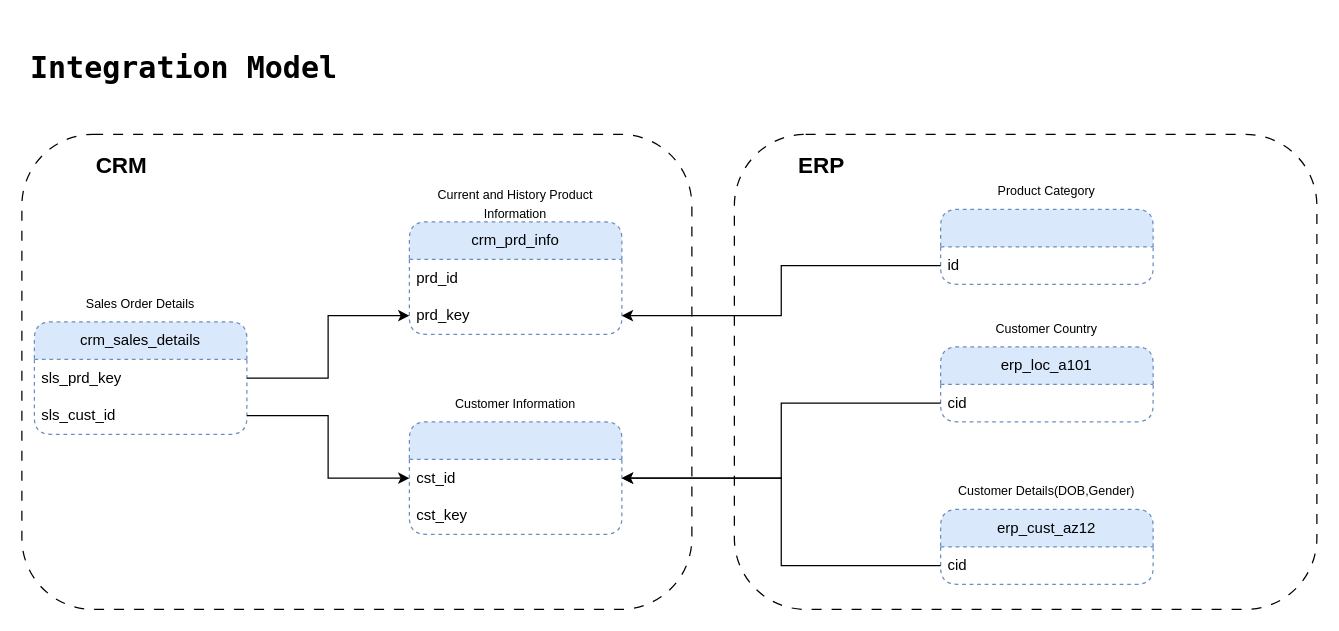
Some shapes in this 1339 by 631 pixel diagram are drawn without their labels. Here are the shapes that lost their labels. From the top down, the box of each, then its label:
(939, 208, 1153, 284): erp_px_cat_g1v2
(408, 421, 622, 534): crm_cust_info
